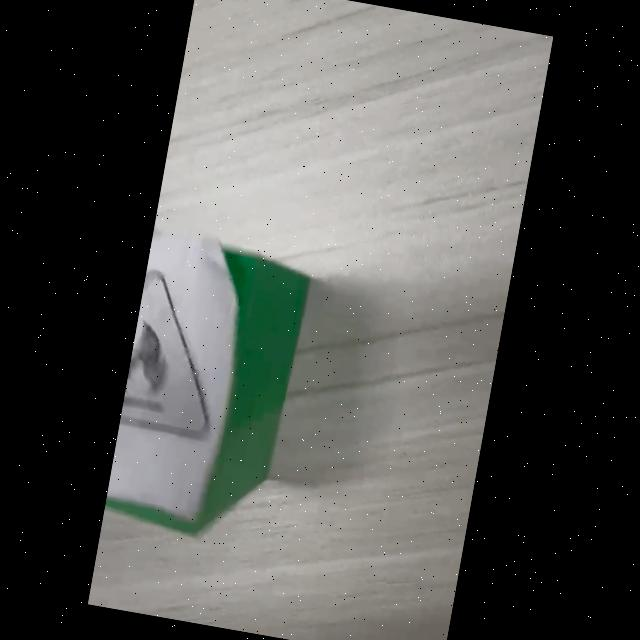Fire: (119, 264, 209, 438)
